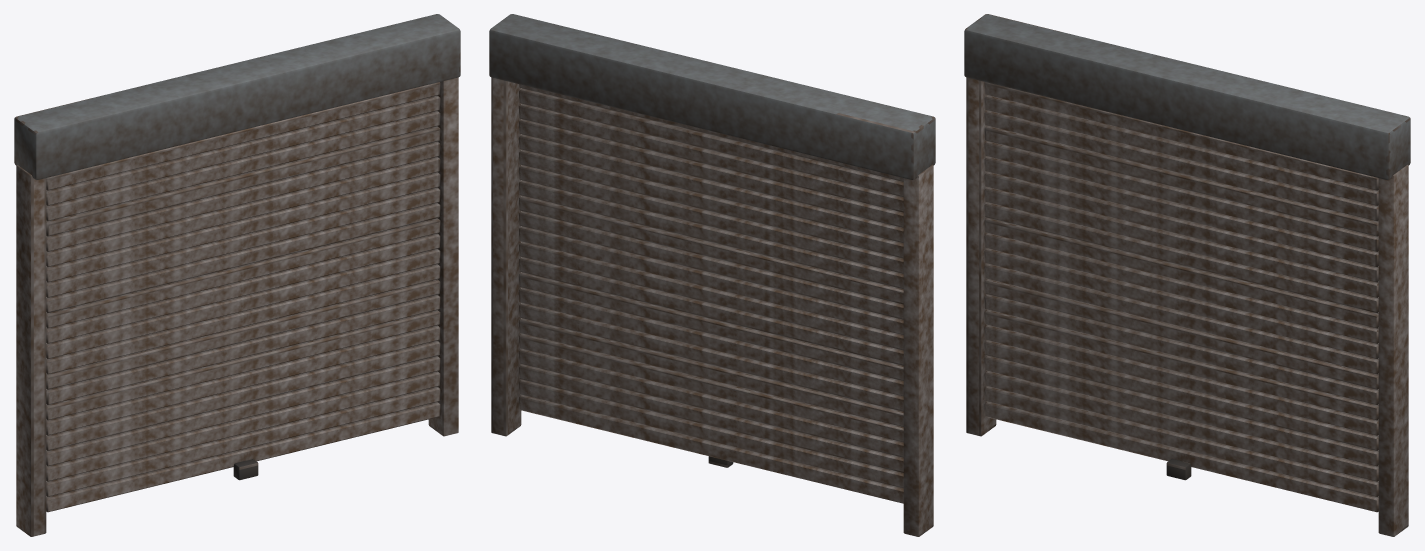
Rendered from g67_pz_shutter.glb.
3 renders of one model, left to right at view 1: azimuth 30°, elevation 25°; view 2: azimuth 150°, elevation 25°; view 3: azimuth 330°, elevation 25°, orthographic.
Parts seen in each view (by area): view 1: g67_pz_shutter, shutter_sheet.003, shutter_sheet.006, shutter_sheet.012, shutter_sheet.009, shutter_sheet.013, shutter_sheet.014, shutter_sheet.002, shutter_sheet.004, shutter_sheet.005, shutter_sheet.011, shutter_sheet.015 (+11 smaller); view 2: g67_pz_shutter, shutter_sheet.003, shutter_sheet.021, shutter_sheet.002, shutter_sheet.012, shutter_sheet.019, shutter_sheet.001, shutter_sheet.004, shutter_sheet.013, shutter_sheet.014, shutter_sheet.015, shutter_sheet.018 (+11 smaller); view 3: g67_pz_shutter, shutter_sheet.003, shutter_sheet.006, shutter_sheet.012, shutter_sheet.009, shutter_sheet.013, shutter_sheet.014, shutter_sheet.002, shutter_sheet.004, shutter_sheet.005, shutter_sheet.011, shutter_sheet.015 (+11 smaller).
Boxes of the visible parts, <box> form: g67_pz_shutter: <box>14,14,460,536</box>; shutter_sheet.003: <box>46,126,440,236</box>; shutter_sheet.006: <box>46,172,440,282</box>; shutter_sheet.012: <box>46,264,440,374</box>; shutter_sheet.009: <box>46,218,440,328</box>; shutter_sheet.013: <box>46,279,440,389</box>; shutter_sheet.014: <box>46,294,440,404</box>; shutter_sheet.002: <box>46,111,440,221</box>; shutter_sheet.004: <box>46,141,440,251</box>; shutter_sheet.005: <box>46,157,440,267</box>; shutter_sheet.011: <box>46,249,440,358</box>; shutter_sheet.015: <box>46,310,440,420</box>; g67_pz_shutter: <box>489,14,935,536</box>; shutter_sheet.003: <box>519,119,903,227</box>; shutter_sheet.021: <box>519,395,903,503</box>; shutter_sheet.002: <box>519,104,903,212</box>; shutter_sheet.012: <box>519,257,903,365</box>; shutter_sheet.019: <box>519,364,903,472</box>; shutter_sheet.001: <box>519,89,903,197</box>; shutter_sheet.004: <box>519,135,903,243</box>; shutter_sheet.013: <box>519,273,903,380</box>; shutter_sheet.014: <box>519,288,903,396</box>; shutter_sheet.015: <box>519,303,903,411</box>; shutter_sheet.018: <box>519,349,903,457</box>; g67_pz_shutter: <box>964,14,1410,536</box>; shutter_sheet.003: <box>984,126,1378,236</box>; shutter_sheet.006: <box>984,172,1378,282</box>; shutter_sheet.012: <box>984,264,1378,374</box>; shutter_sheet.009: <box>984,218,1378,328</box>; shutter_sheet.013: <box>984,279,1378,389</box>; shutter_sheet.014: <box>984,294,1378,404</box>; shutter_sheet.002: <box>984,111,1378,221</box>; shutter_sheet.004: <box>984,141,1378,251</box>; shutter_sheet.005: <box>984,157,1378,267</box>; shutter_sheet.011: <box>984,249,1378,358</box>; shutter_sheet.015: <box>984,310,1378,420</box>.
Size of the model in its own units: 3.22 by 2.92 by 0.3.
1 material, 1 textured.
